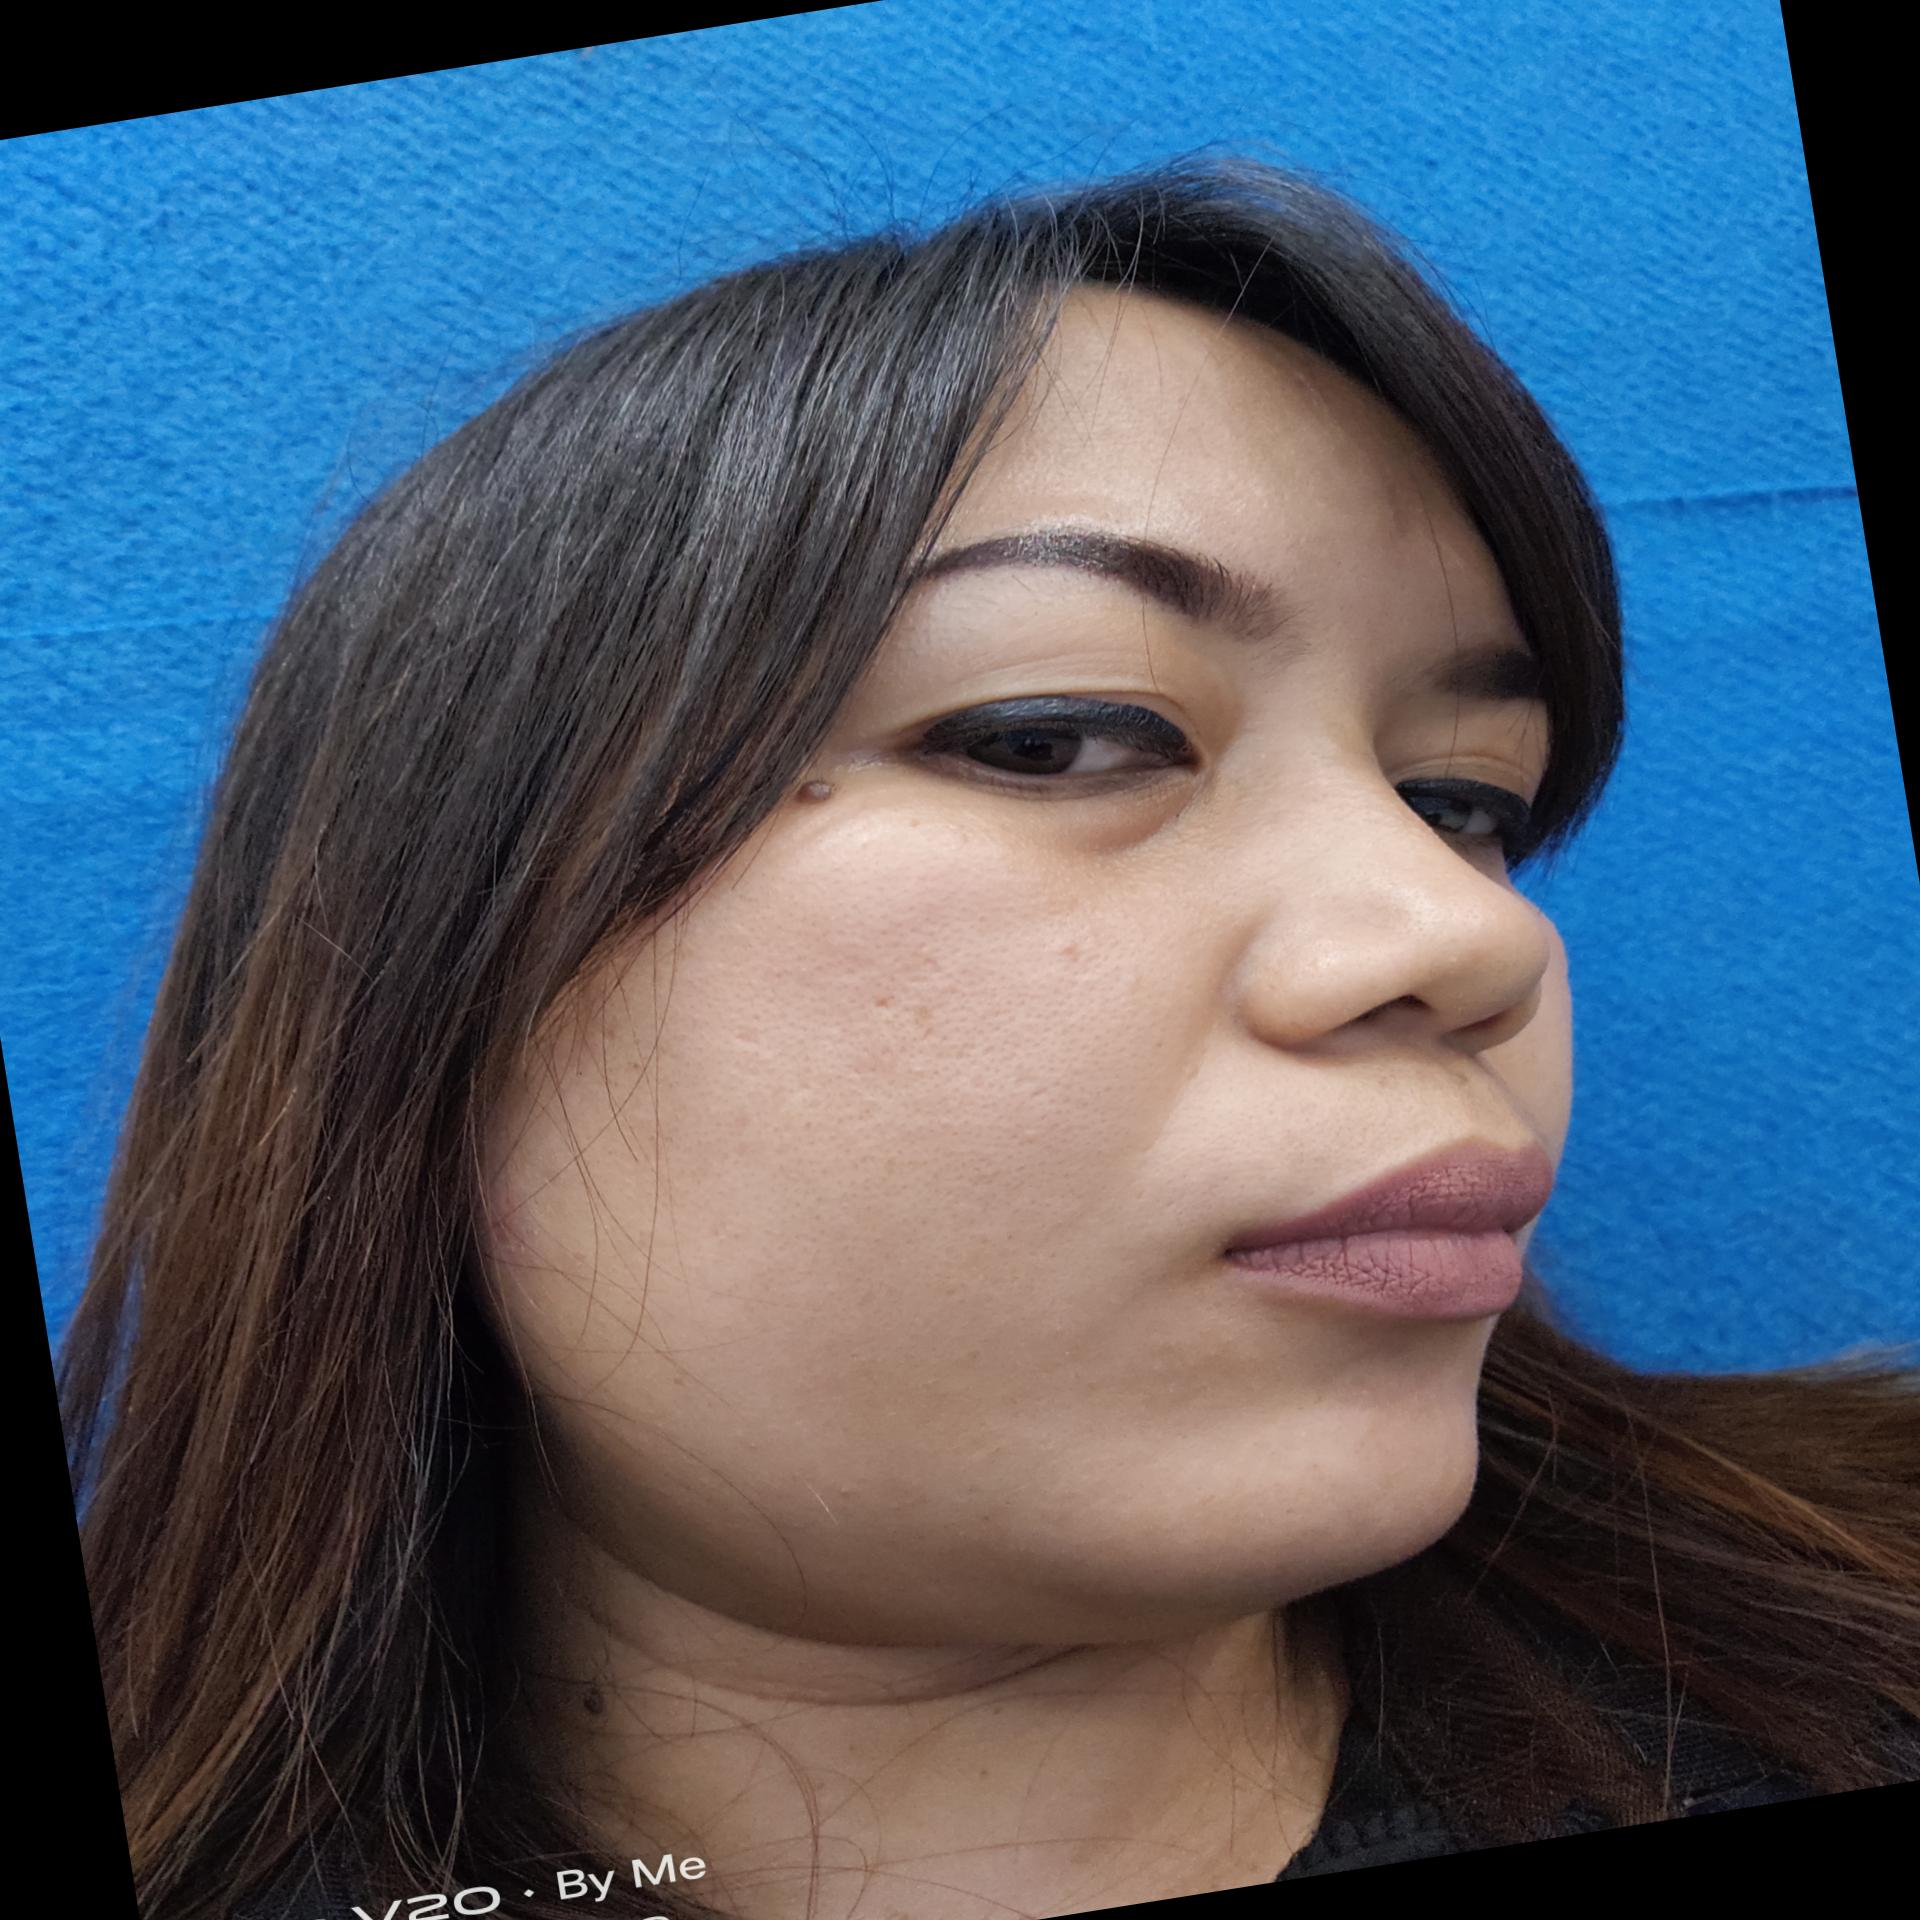Englarged Pores: (733, 879, 1148, 1183)
